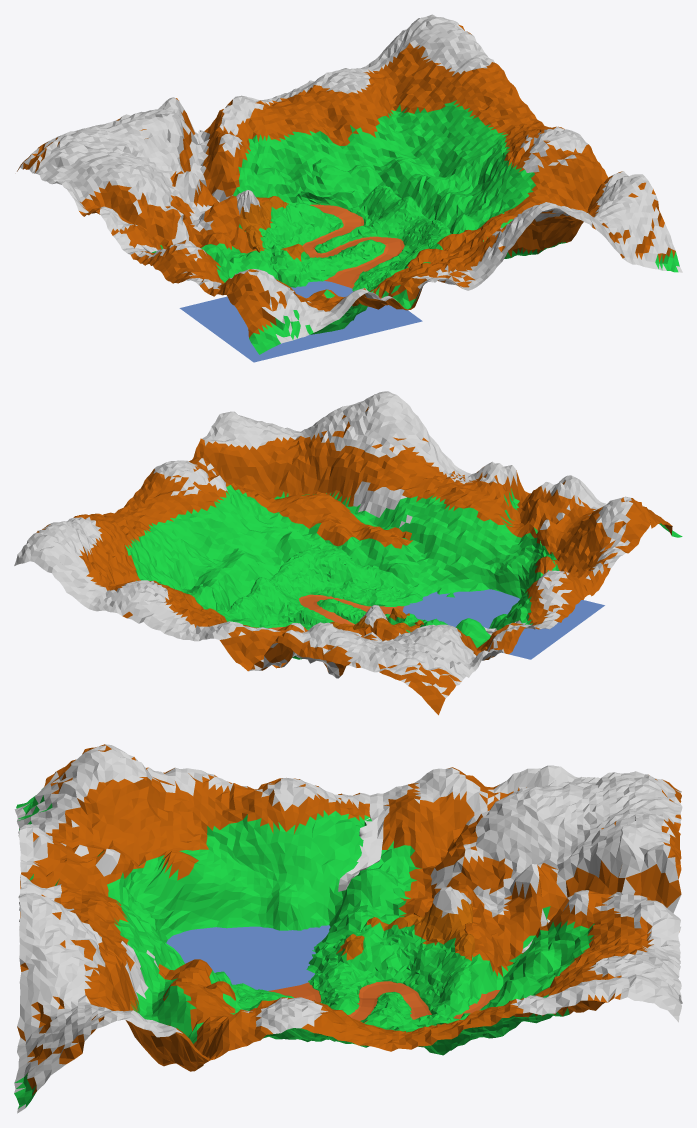
Rendered from forrestMap01.fbx.
3 views of the same model, one above another, from view 1: azimuth 30°, elevation 25°; view 2: azimuth 150°, elevation 25°; view 3: azimuth 270°, elevation 25° (orthographic). The views are drawn at different scales.
Parts seen in each view (by area): view 1: Plane.001, terrain, water, Plane; view 2: Plane.001, terrain, water, Plane; view 3: Plane.001, terrain, water, Plane.
Boxes of the visible parts, x1,y1,x2,y2 form: Plane.001: [17, 14, 682, 354]; terrain: [236, 185, 451, 291]; water: [179, 281, 422, 362]; Plane: [302, 204, 404, 288]; Plane.001: [14, 391, 682, 715]; terrain: [227, 541, 427, 631]; water: [402, 589, 604, 659]; Plane: [268, 594, 404, 630]; Plane.001: [14, 744, 682, 1113]; terrain: [232, 886, 474, 1026]; water: [166, 925, 330, 990]; Plane: [268, 981, 499, 1023].
Size of the model in its own units: 13241 by 3966 by 13253.
